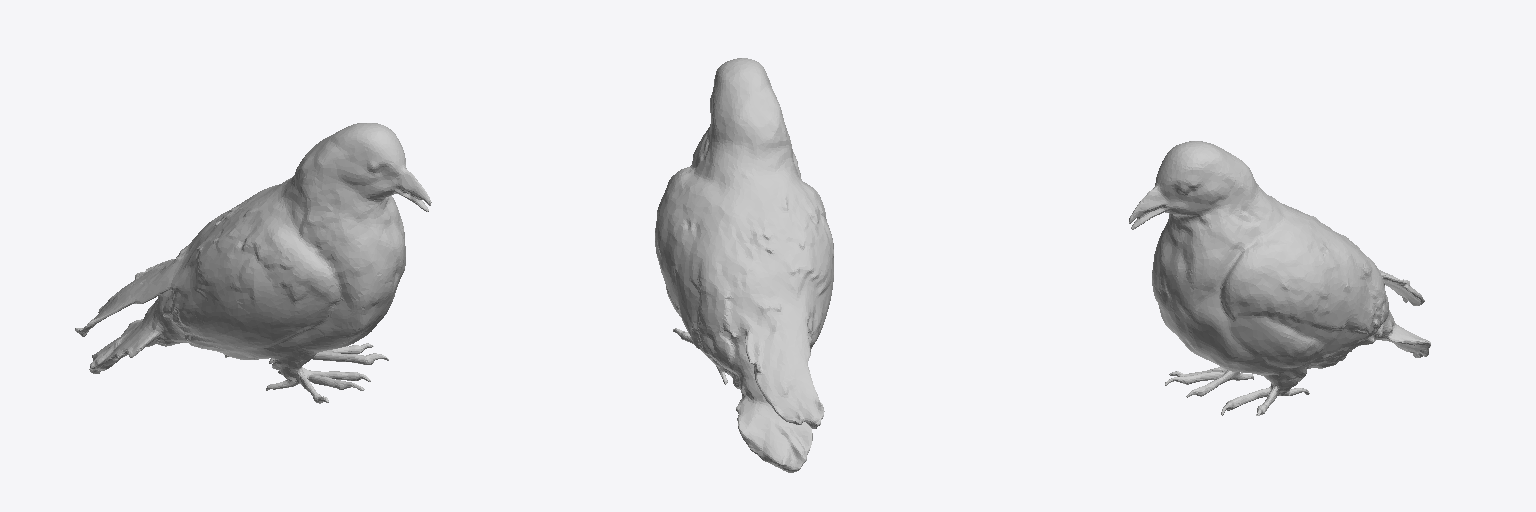
The model's file is Paloma.obj.
3 views of the same model, side by side, from view 1: azimuth 30°, elevation 25°; view 2: azimuth 150°, elevation 25°; view 3: azimuth 270°, elevation 25° (orthographic).
Parts seen in each view (by area): view 1: Mesh_0; view 2: Mesh_0; view 3: Mesh_0.
Boxes of the visible parts, x1,y1,x2,y2 form: Mesh_0: [75, 123, 431, 403]; Mesh_0: [655, 58, 833, 472]; Mesh_0: [1129, 141, 1430, 415].
Bounding box in the file's own units: 1.68 × 2 × 1.89.